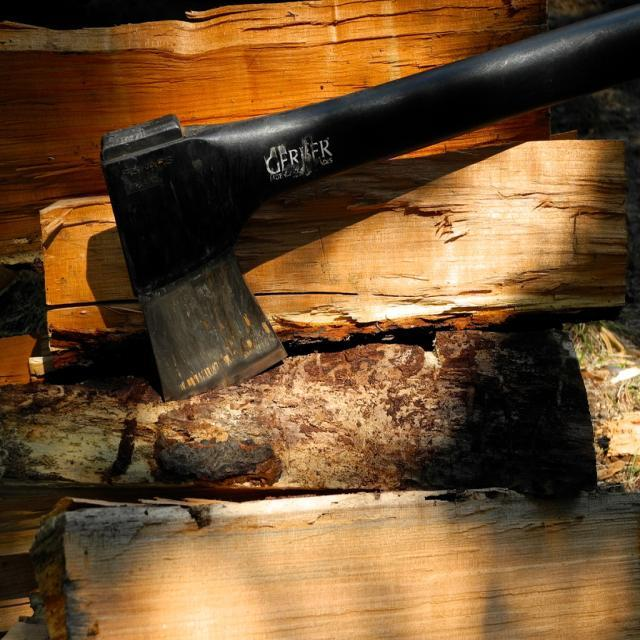Axe: (102, 7, 640, 399)
